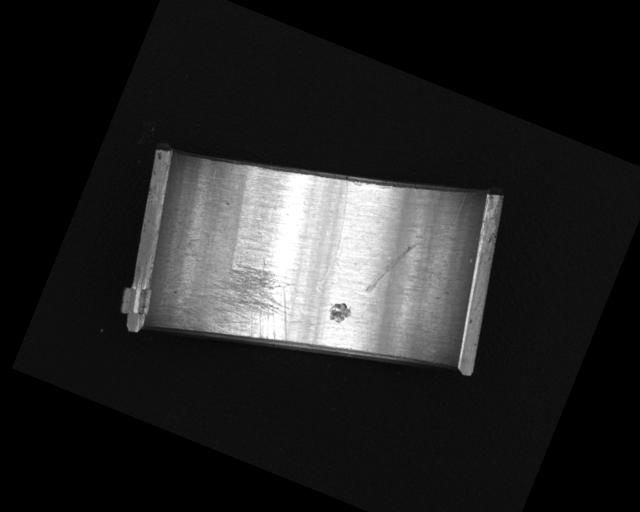bruise: (326, 299, 354, 326)
nick: (305, 179, 366, 292), (364, 231, 418, 303)
scratch: (179, 239, 313, 367)
